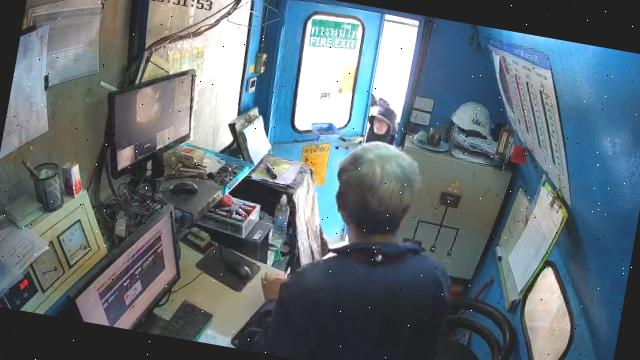Head: (336, 143, 419, 242)
People: (258, 144, 451, 359)
